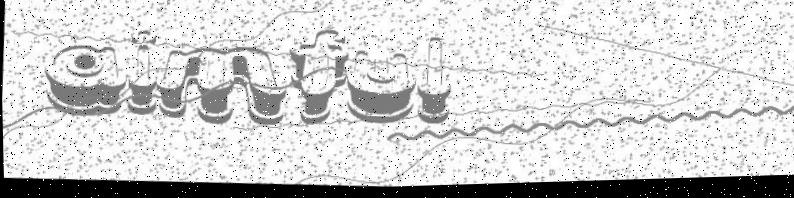a: (40, 41, 129, 120)
f: (285, 28, 351, 130)
i: (125, 28, 161, 117)
l: (413, 37, 455, 128)
m: (153, 41, 290, 130)
u: (344, 50, 417, 128)
